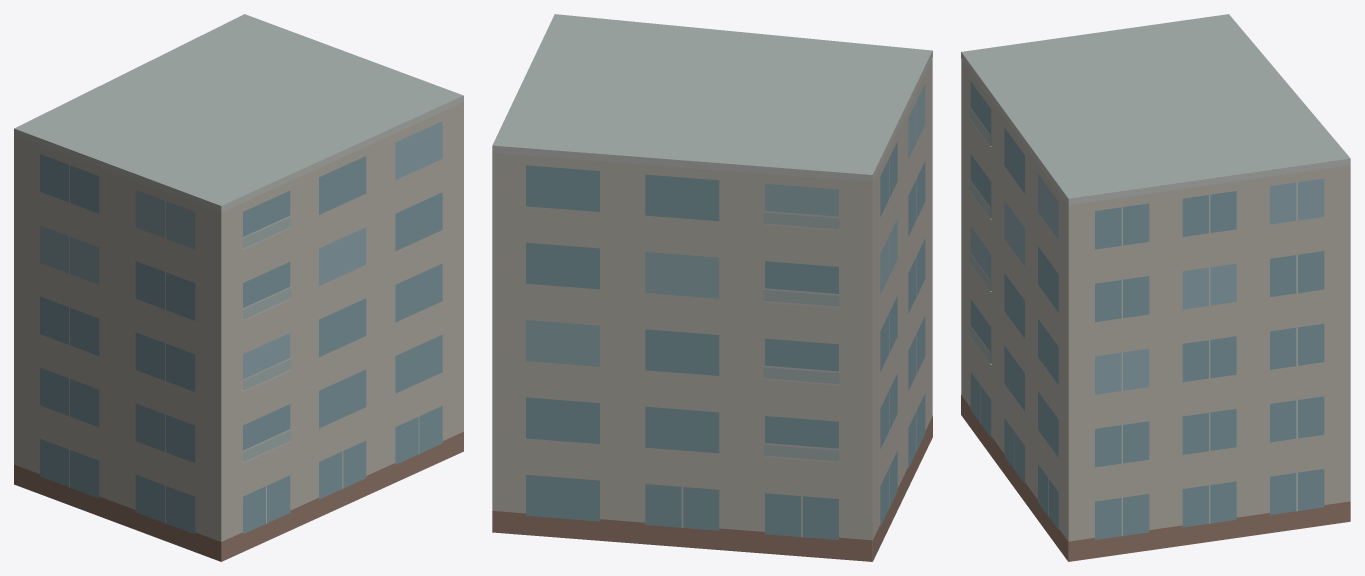
Rendered from survey-upis-33024750.glb.
The picture shows the model from 3 angles, left to right: view 1: azimuth 30°, elevation 25°; view 2: azimuth 150°, elevation 25°; view 3: azimuth 270°, elevation 25°; orthographic projection. The views are drawn at different scales.
Parts seen in each view (by area): view 1: survey-upis-33024750.tmp; view 2: survey-upis-33024750.tmp; view 3: survey-upis-33024750.tmp.
Part boxes in pixels (left/top/right/bottom): survey-upis-33024750.tmp: left=14, top=14, right=463, bottom=561; survey-upis-33024750.tmp: left=492, top=14, right=932, bottom=561; survey-upis-33024750.tmp: left=961, top=14, right=1350, bottom=561.
Bounding box in the file's own units: 14.63 × 13.4 × 13.04.
